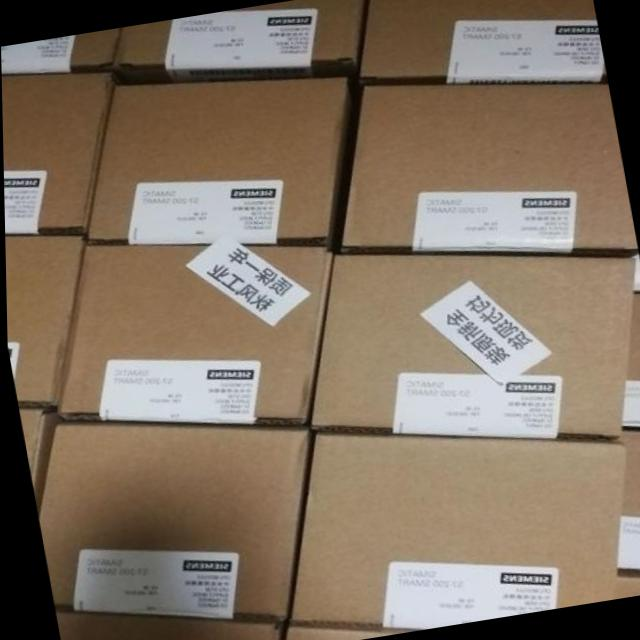box: (288, 432, 625, 631), (308, 254, 636, 439), (38, 421, 308, 621), (340, 82, 637, 256), (55, 244, 332, 423), (85, 77, 349, 244), (114, 0, 367, 83), (359, 0, 606, 83), (1, 73, 116, 234), (4, 234, 85, 410), (55, 609, 282, 640), (1, 27, 123, 75), (18, 408, 59, 513), (616, 431, 640, 571), (620, 293, 640, 427), (283, 625, 405, 640), (613, 569, 640, 597)
